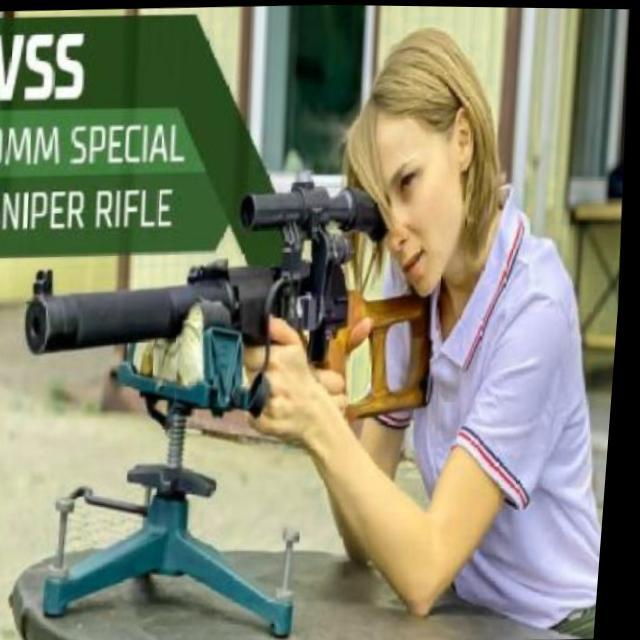weapon: (4, 166, 458, 640)
